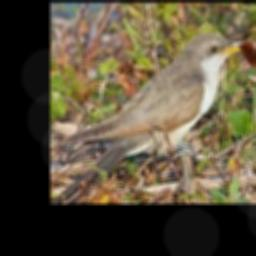Cuckoo: (53, 34, 244, 204)
